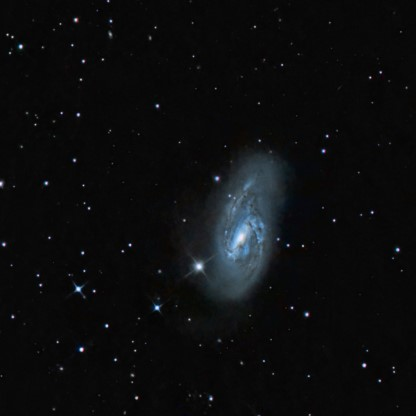Messier 66: (170, 147, 306, 324)
